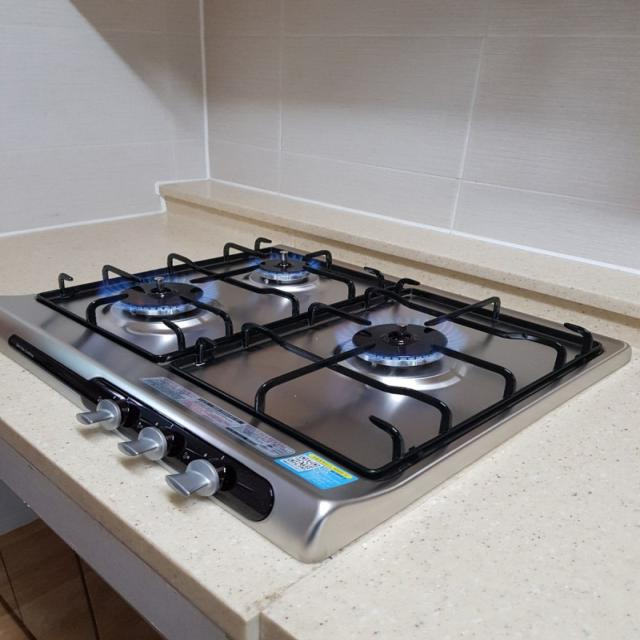knob_OFF: (71, 238, 507, 410)
